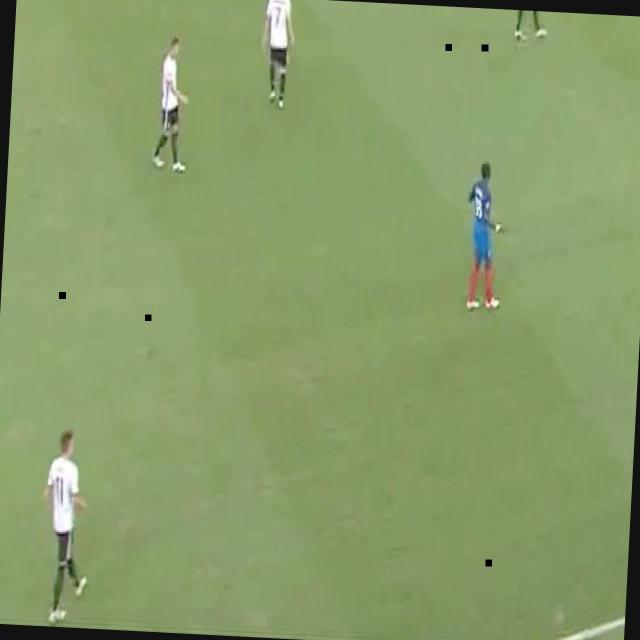player-white: (38, 429, 96, 626), (463, 160, 508, 314), (152, 35, 192, 172), (258, 0, 295, 110), (513, 10, 548, 40)
